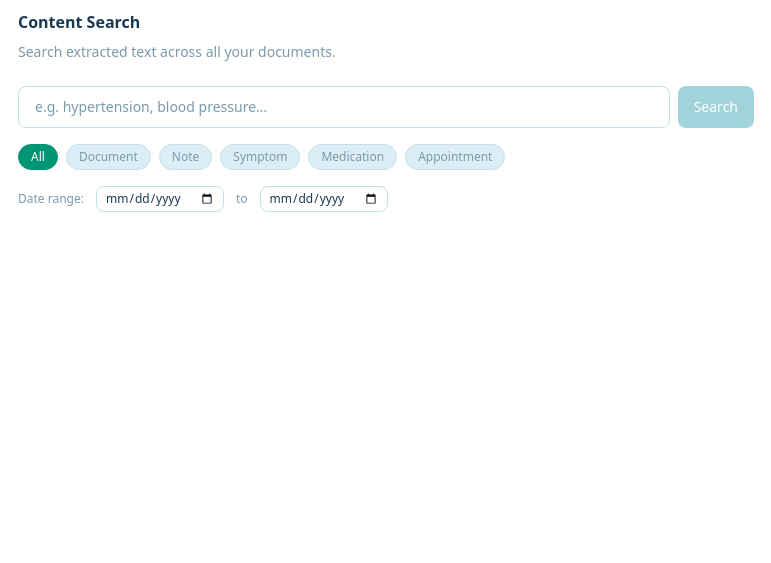
Test: ContentSearchPage — entity-type filter chips › summary bar label changes to "Filtered results" when entity chip active
Type "fever" into the search field with test id "content-search-input" at x=344, y=107, box [18,86,670,128]
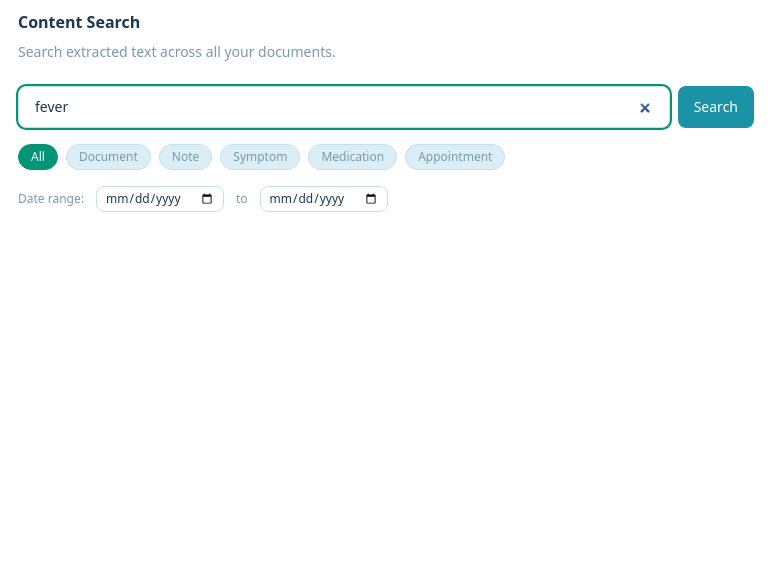
Press Enter
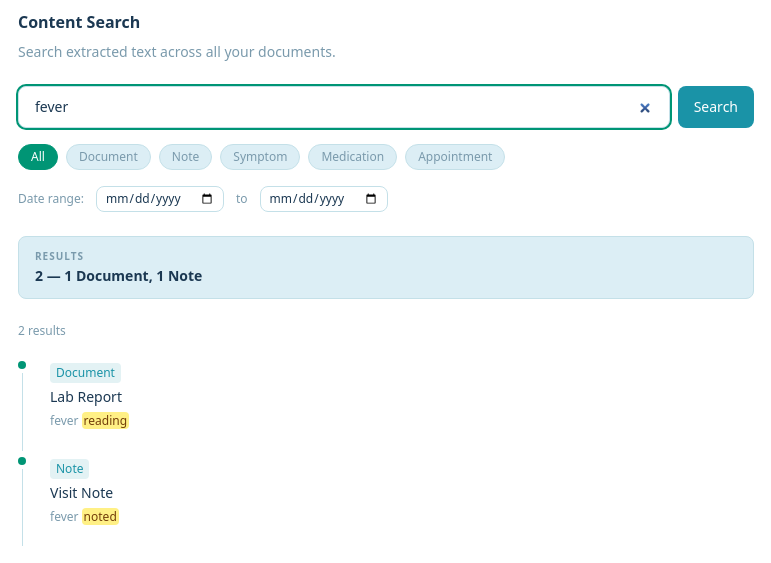
Check: the text "Lab Report" is shown, box [50,387,122,406]
Click the button with test id "chip-document" at x=108, y=157, box [66,144,151,170]
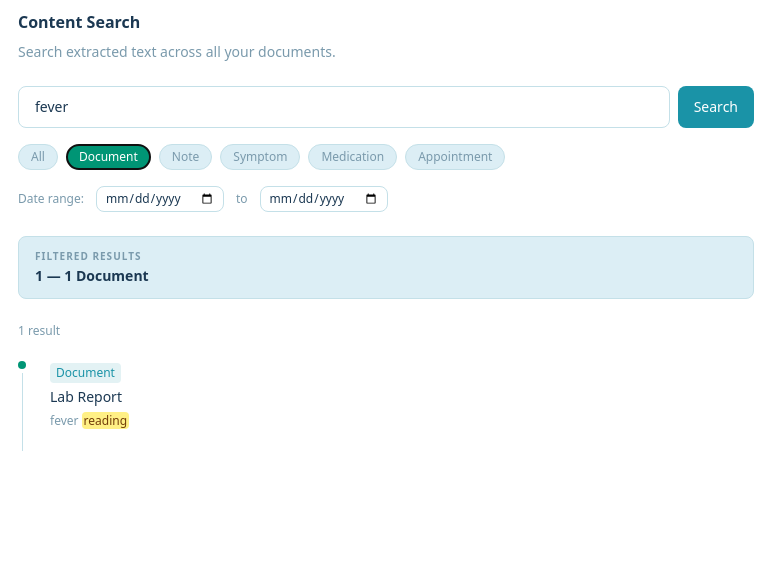
Check: the element with test id "summary-bar" shows "Filtered results", box [35,249,142,263]
